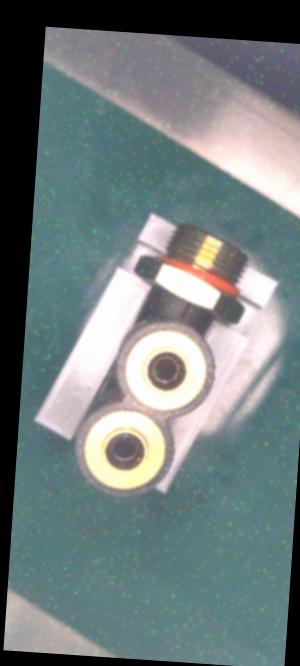craze: (177, 300, 191, 318)
